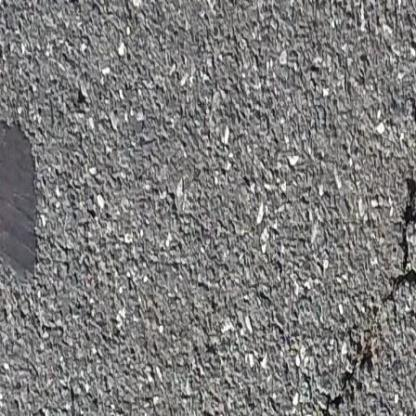Cracks: (315, 169, 416, 413)
